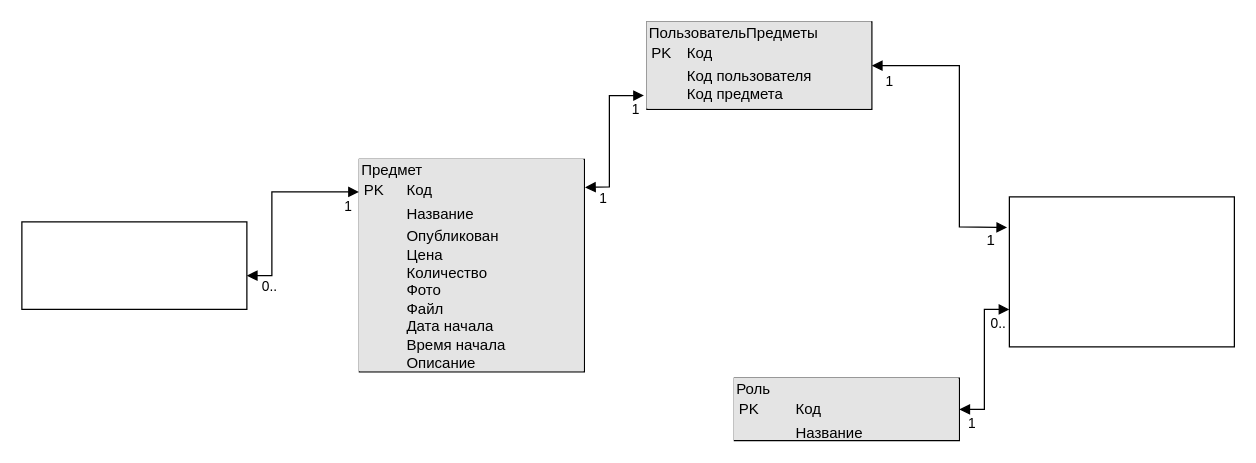
Some shapes in this 1256 by 463 pixel diagram are drawn without their labels. Here are the shapes that lost their labels. From the top down, the centre of each, then its label:
At [134,265]: "Фография PK Код FK Код предмета Фото".
At [1121,271]: "Пользователь PK Код Имя FK FK Логин Пароль Код роли Код руководителя".
